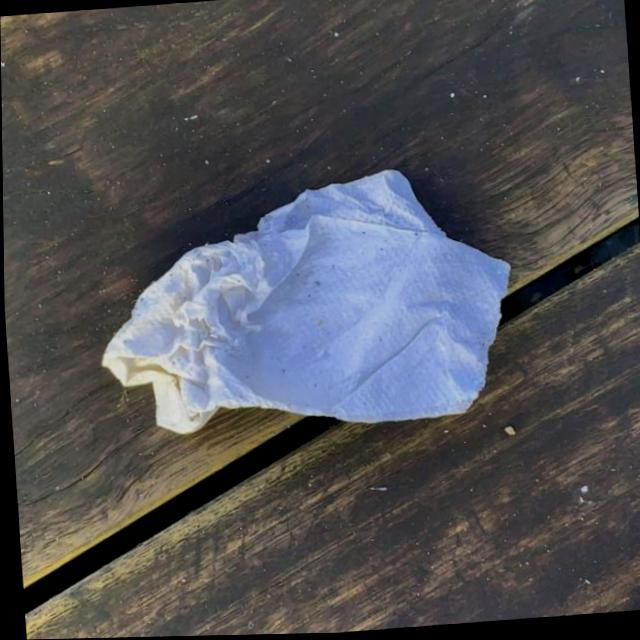Paper: (86, 162, 522, 447)
